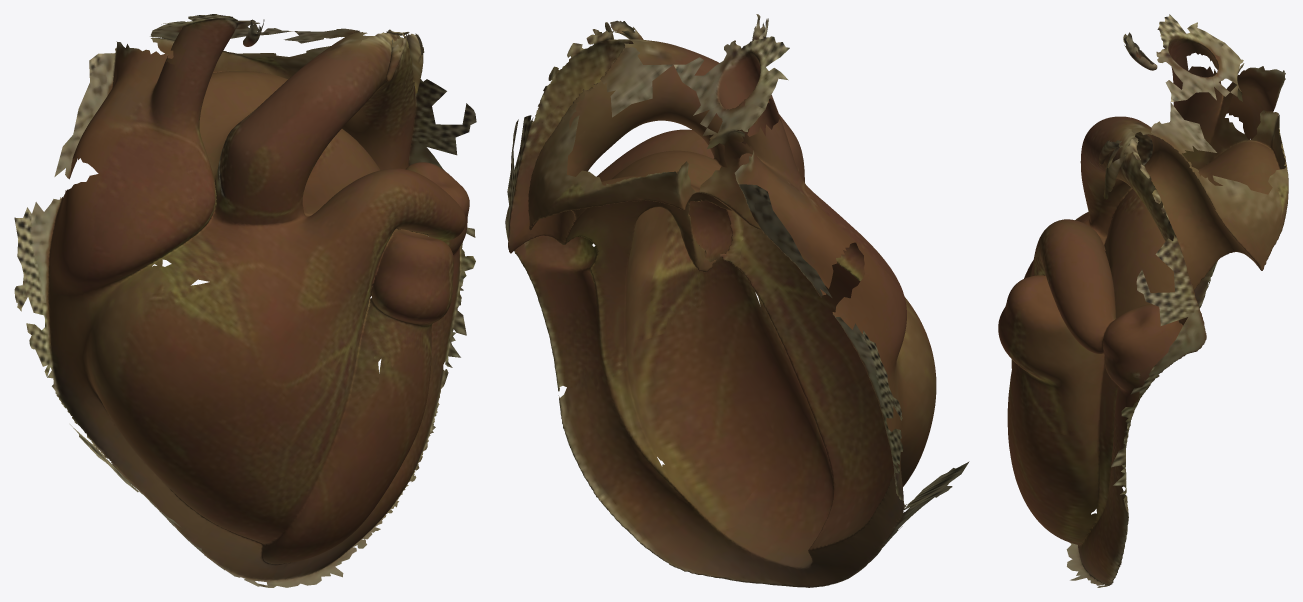
The model's file is heart.glb.
3 renders of one model, left to right at view 1: azimuth 30°, elevation 25°; view 2: azimuth 150°, elevation 25°; view 3: azimuth 270°, elevation 25°, orthographic. The views are drawn at different scales.
Parts seen in each view (by area): view 1: Heart; view 2: Heart; view 3: Heart.
Part boxes in pixels (x1,y1,x2,y2): Heart: (14, 14, 476, 587); Heart: (505, 14, 969, 587); Heart: (998, 14, 1288, 587).
Size of the model in its own units: 0.0239 by 0.0306 by 0.0155.
1 material, 1 textured.
